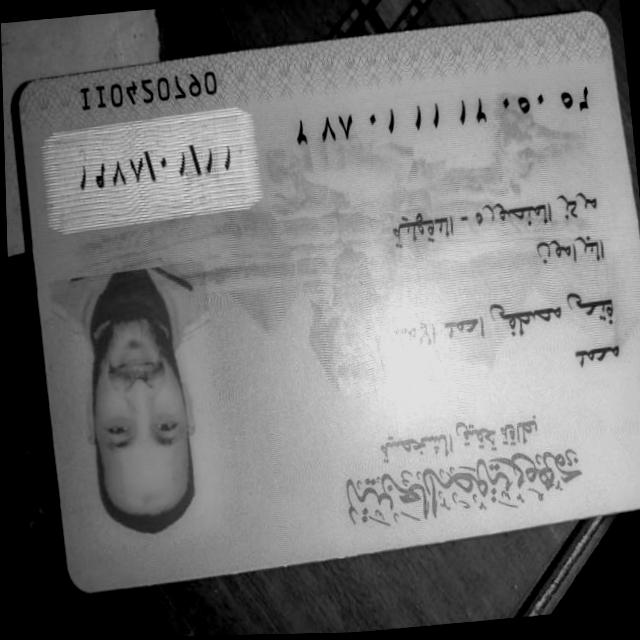id_card: (17, 11, 640, 590)
